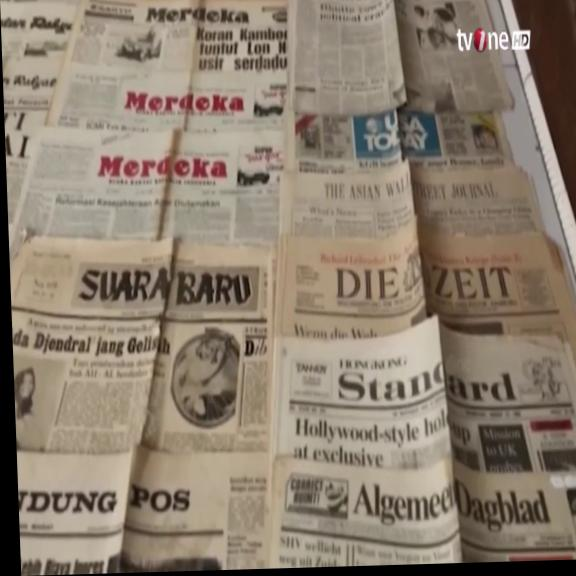Kertas: (23, 229, 257, 576), (7, 0, 293, 235), (256, 313, 460, 565), (440, 314, 576, 559), (285, 0, 407, 119), (392, 0, 515, 116)
